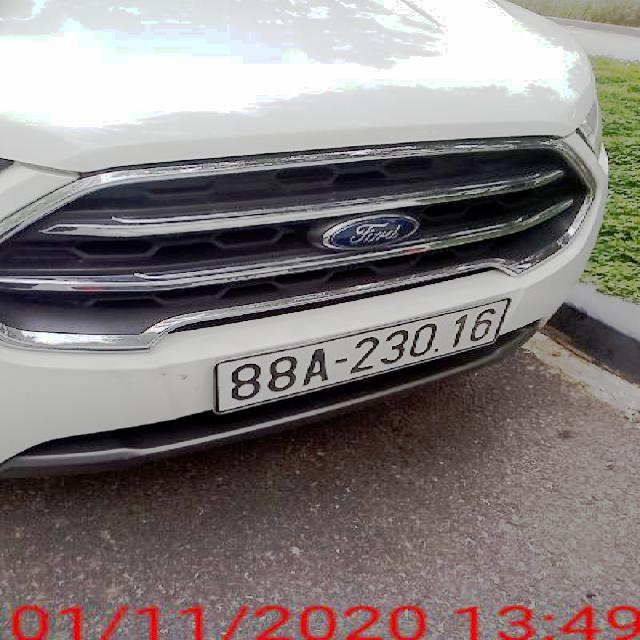license_plate: (214, 299, 509, 411)
